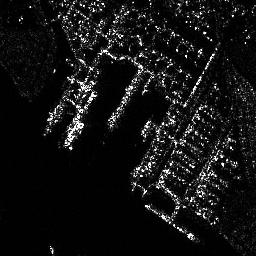ship: (63, 121, 85, 148)
